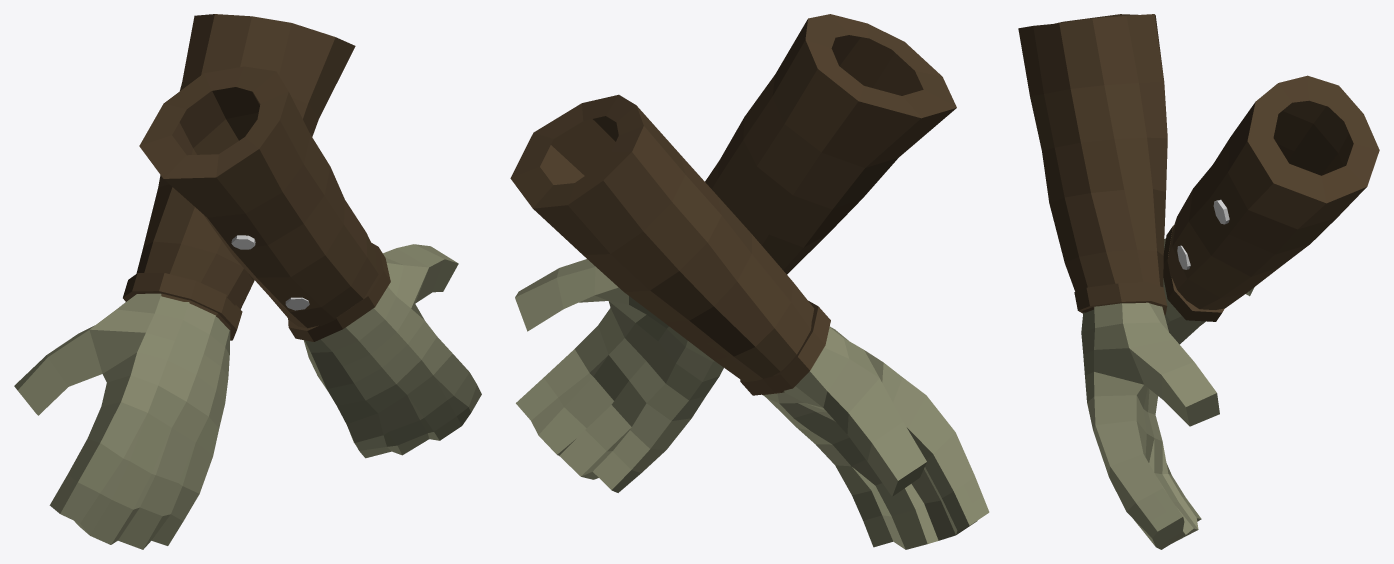
Rendered from Icon.fbx.
The picture shows the model from 3 angles, left to right: view 1: azimuth 30°, elevation 25°; view 2: azimuth 150°, elevation 25°; view 3: azimuth 270°, elevation 25°; orthographic projection. The views are drawn at different scales.
Parts seen in each view (by area): view 1: Leather 2 Gloves; view 2: Leather 2 Gloves; view 3: Leather 2 Gloves.
Boxes of the visible parts, left/top/right/bottom form: Leather 2 Gloves: left=14, top=14, right=481, bottom=549; Leather 2 Gloves: left=510, top=14, right=989, bottom=549; Leather 2 Gloves: left=1018, top=14, right=1379, bottom=549.
Bounding box in the file's own units: 48.26 × 49.52 × 35.43.
